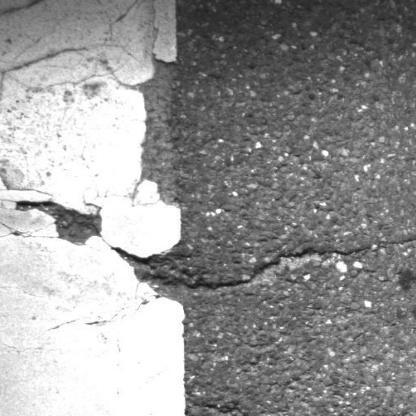Cracks: (139, 234, 416, 295), (185, 397, 271, 416)
